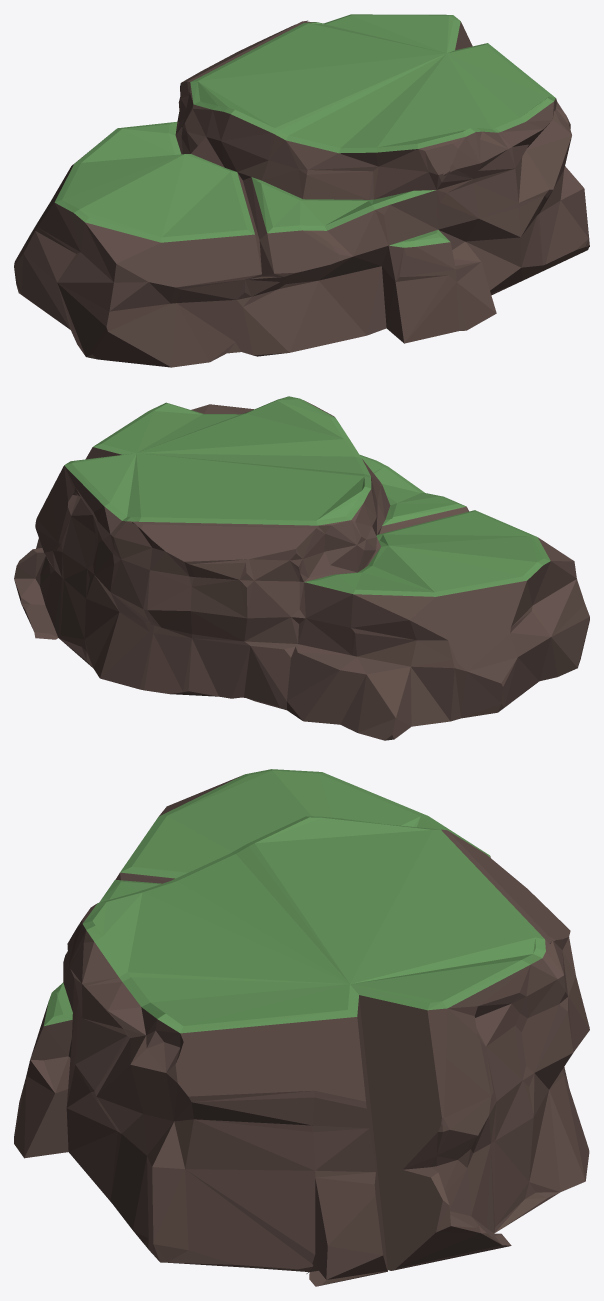
File: Cliff 20.fbx
3 renders of one model, top to bottom at view 1: azimuth 30°, elevation 25°; view 2: azimuth 150°, elevation 25°; view 3: azimuth 270°, elevation 25°, orthographic. The views are drawn at different scales.
Visible parts, largest first — view 1: Cliff 26; view 2: Cliff 26; view 3: Cliff 26.
Boxes of the visible parts, <box> form: Cliff 26: <box>14,14,589,367</box>; Cliff 26: <box>14,396,589,740</box>; Cliff 26: <box>14,769,589,1286</box>.
Bounding box in the file's own units: 2.12 × 0.6803 × 1.45.
